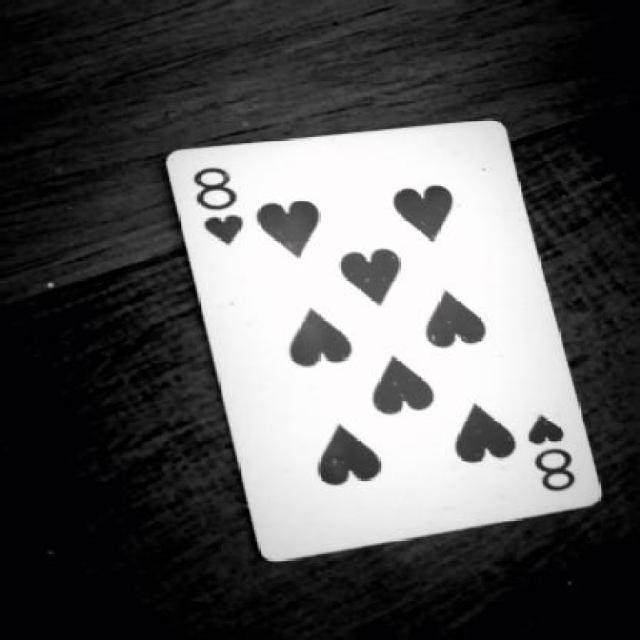8H: (186, 150, 248, 265), (517, 408, 589, 502)
